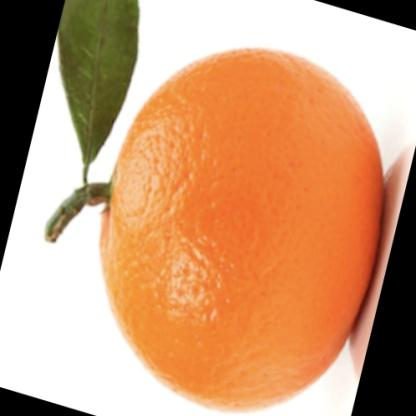fresh: (89, 47, 389, 409)
